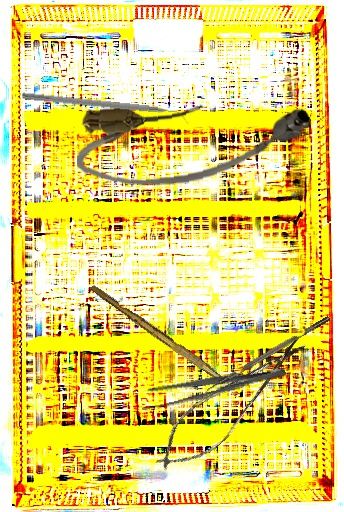Cannula: (73, 93, 316, 192)
Chopper: (199, 315, 335, 401), (20, 92, 191, 126)
Dressing Forceps: (138, 359, 288, 415)
Micro Scissor: (142, 320, 319, 487)
Scalpel Handle: (87, 283, 229, 384)
